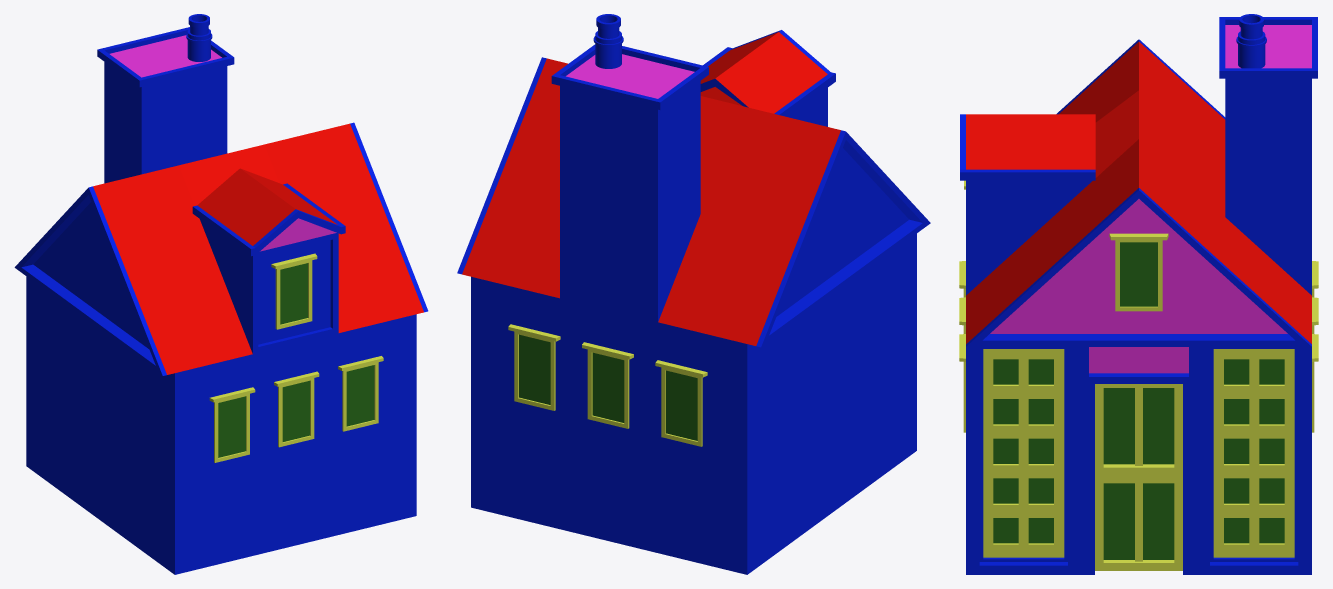
File: TownHouse.fbx
3 renders of one model, left to right at view 1: azimuth 30°, elevation 25°; view 2: azimuth 150°, elevation 25°; view 3: azimuth 270°, elevation 25°, orthographic. The views are drawn at different scales.
Parts seen in each view (by area): view 1: Plane, Cube.001, Cube.009, Cube.008, Cube.007, Cube.006, Cylinder; view 2: Plane, Cube.001, Cube.005, Cube.004, Cube.003, Cylinder; view 3: Plane, Cube.001, Cube.002, Cube, Cylinder.
Boxes of the visible parts, box(x1,y1,x2,y2) form: Plane: box(14, 27, 428, 375); Cube.001: box(26, 276, 416, 574); Cube.009: box(271, 253, 317, 329); Cube.008: box(274, 371, 319, 447); Cube.007: box(338, 356, 383, 431); Cube.006: box(209, 387, 255, 462); Cylinder: box(186, 14, 212, 61); Plane: box(457, 30, 930, 347); Cube.001: box(471, 233, 916, 574); Cube.005: box(582, 342, 633, 428); Cube.004: box(655, 360, 707, 446); Cube.003: box(508, 324, 560, 410); Cylinder: box(593, 14, 623, 68); Plane: box(960, 17, 1317, 346); Cube.001: box(966, 346, 1311, 574); Cube.002: box(983, 349, 1294, 557); Cube: box(1109, 233, 1168, 311); Cylinder: box(1236, 14, 1266, 68).
Bounding box in the file's own units: 207 × 320 × 208.
